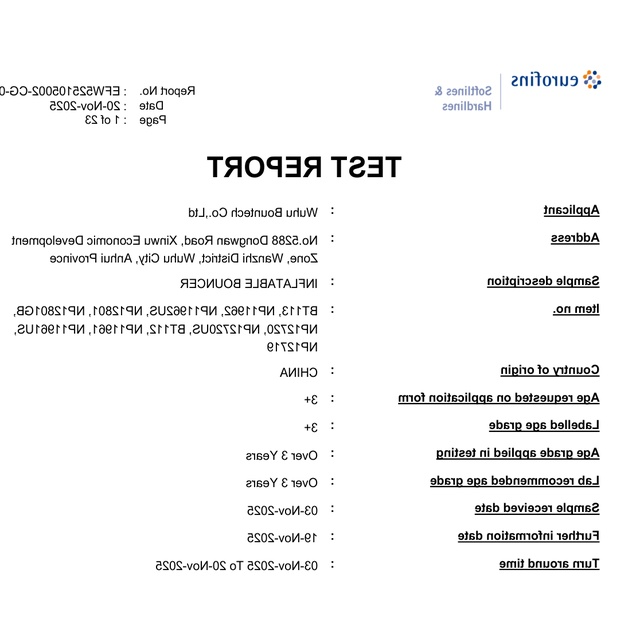eurofins: (504, 62, 613, 101)
